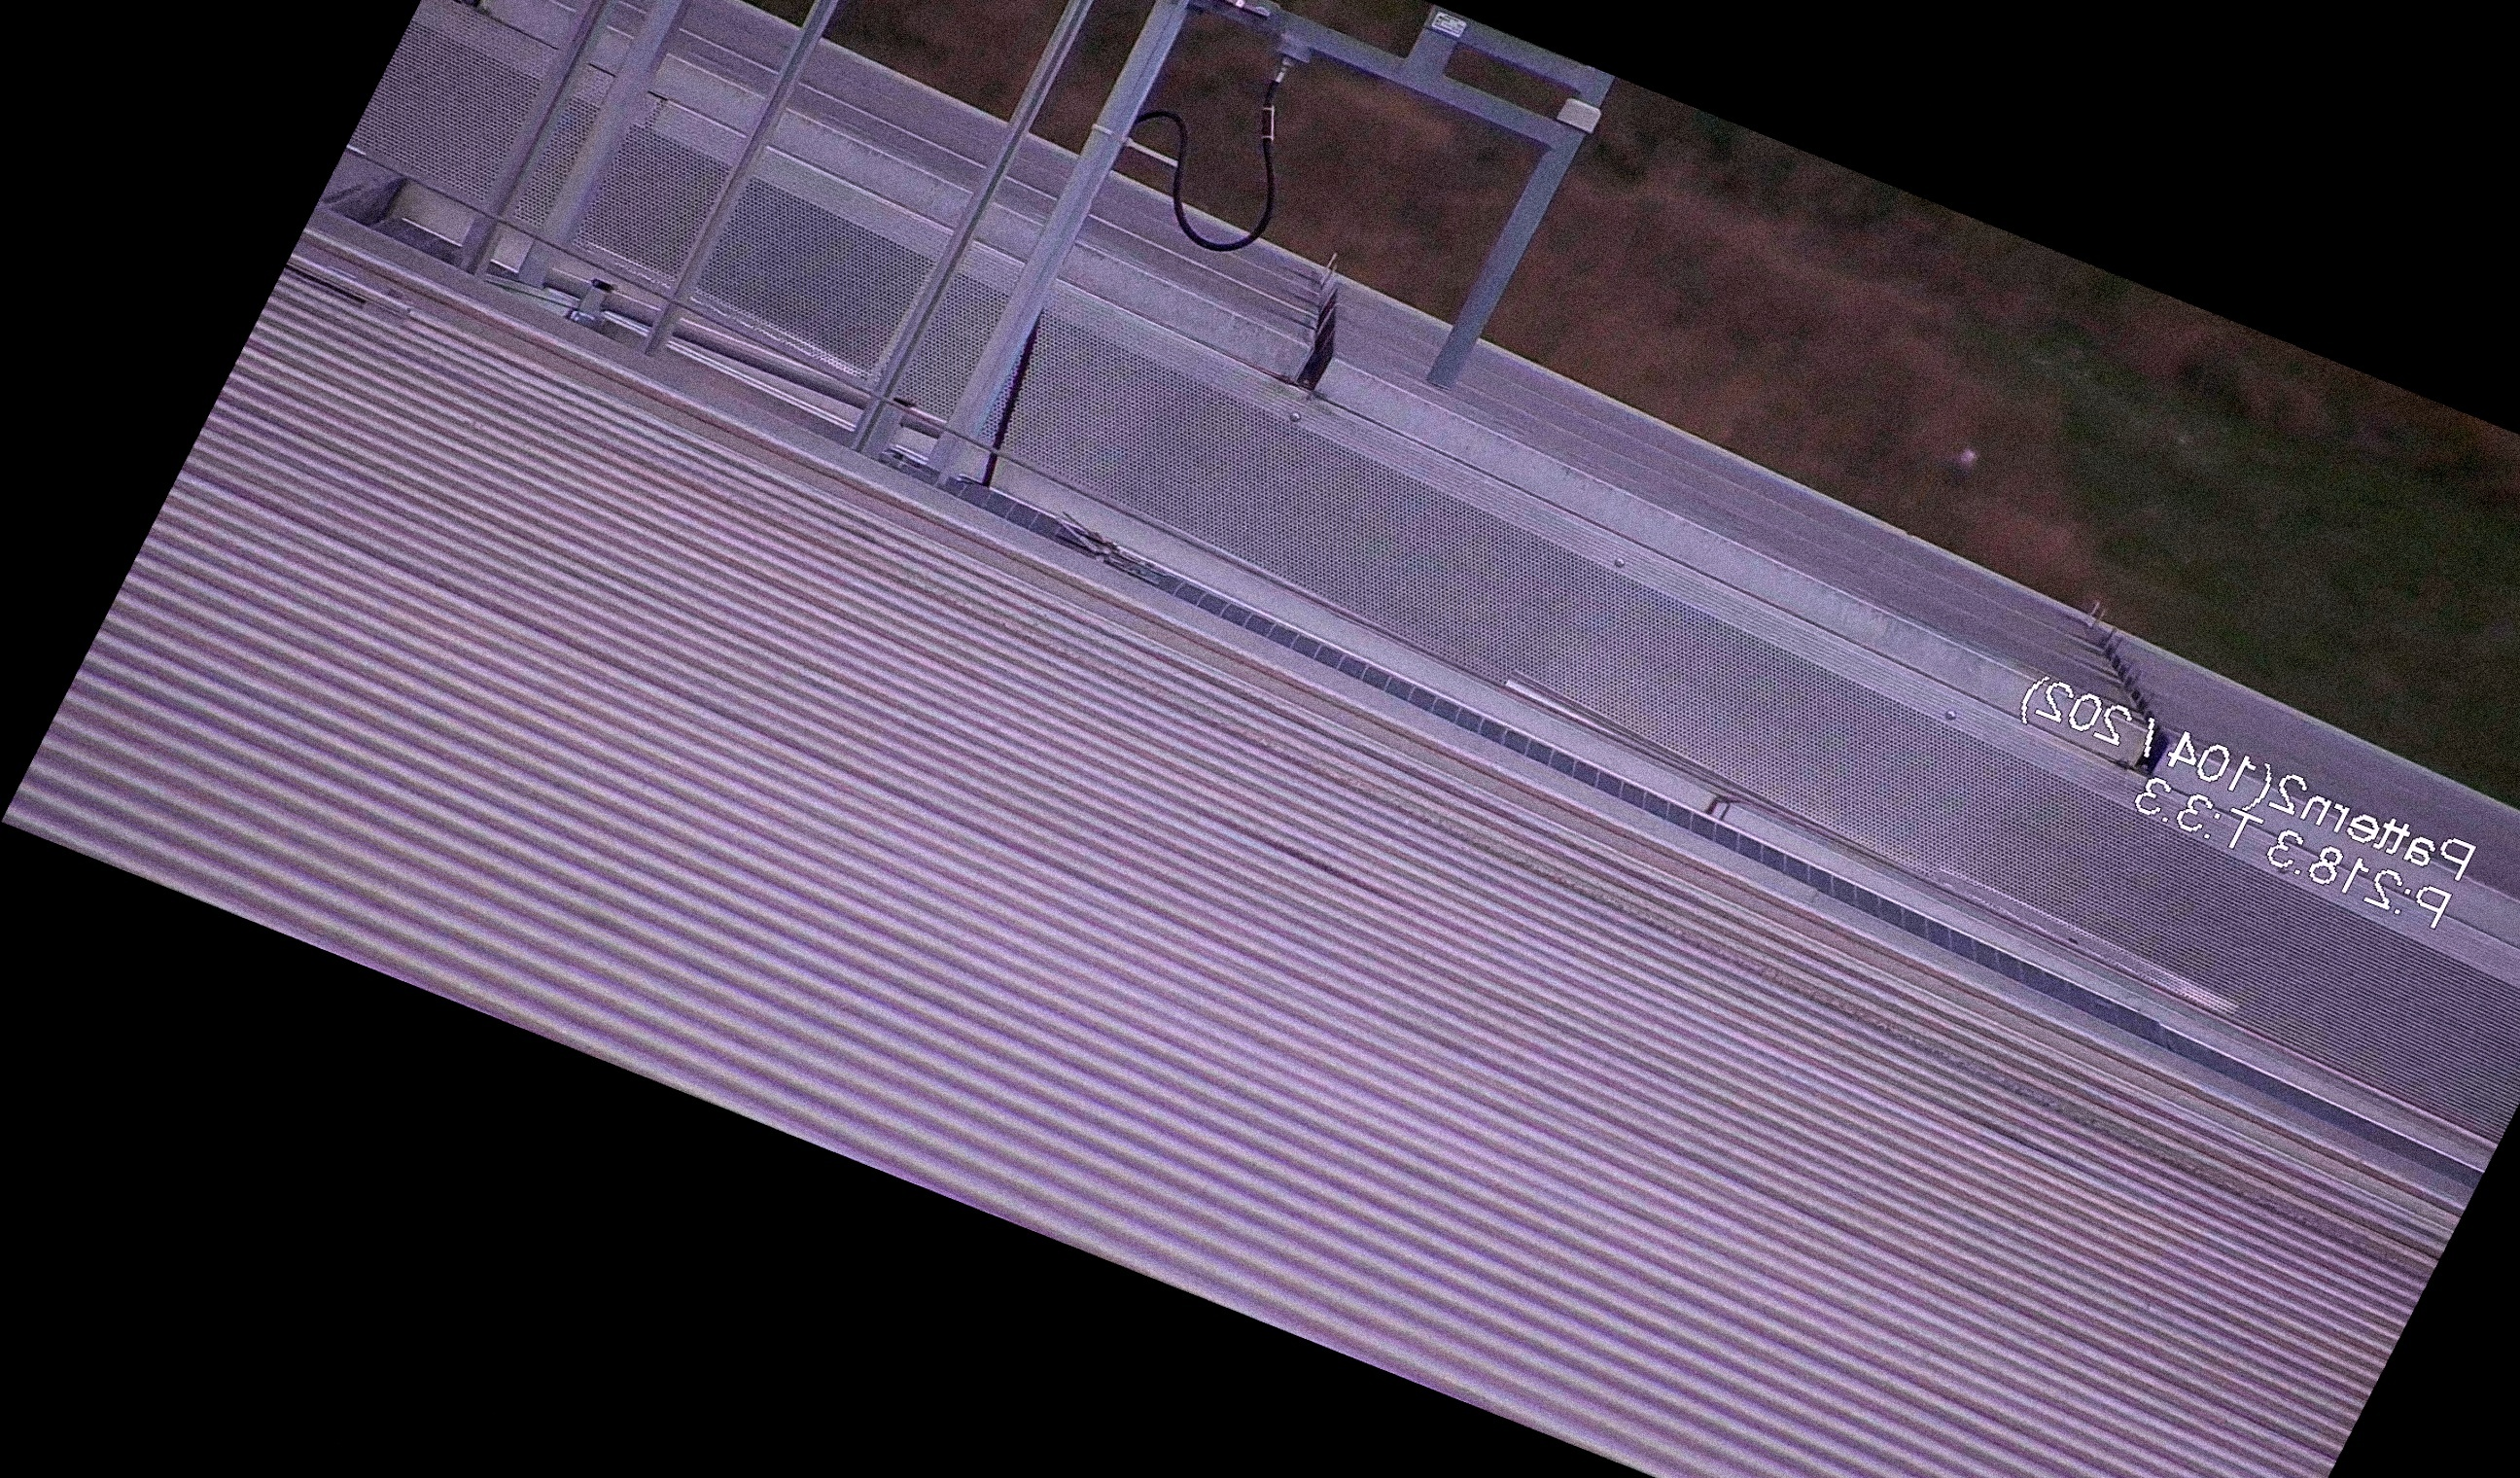Other: (427, 0, 568, 30)
